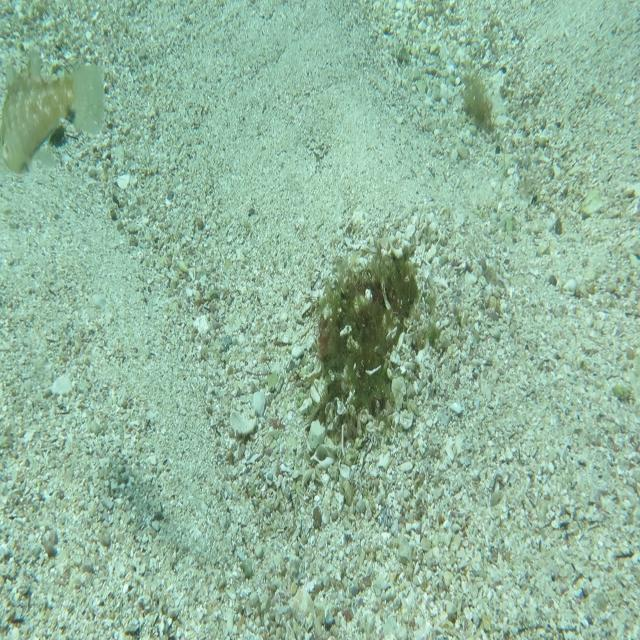CHASE_FLEE: (0, 49, 109, 177)
core_nest: (354, 268, 394, 303)
nest: (286, 220, 431, 458)
